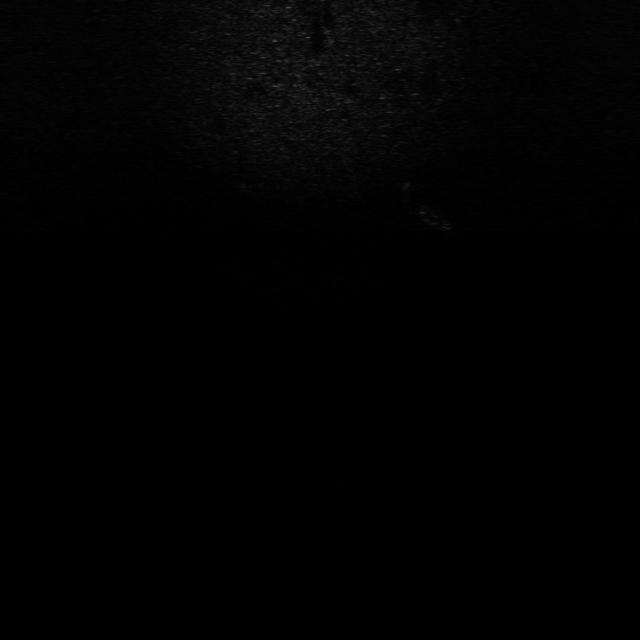human body: (396, 175, 472, 238)
